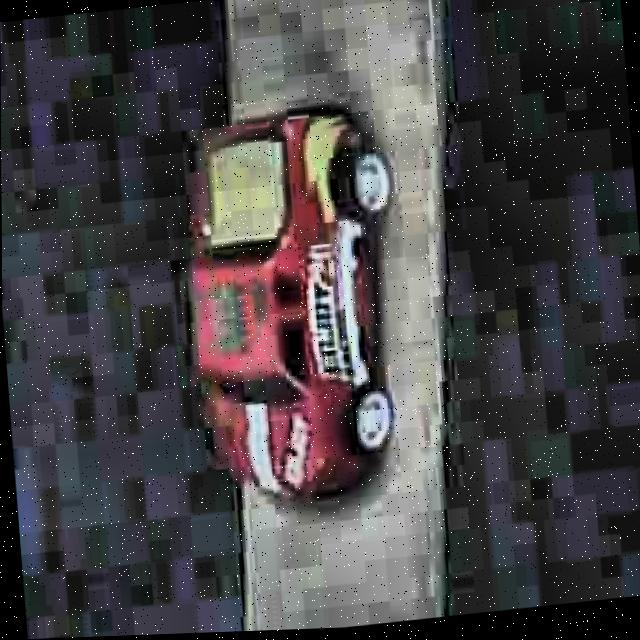car: (172, 96, 419, 517)
